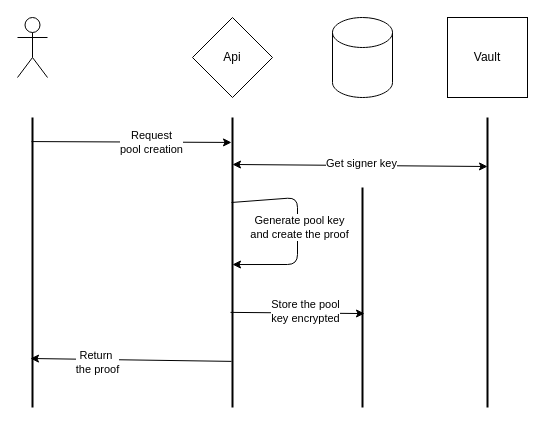
Image size: 545x426. Some labels were removed from this diagram. Here are the shapes that lost their labels. From the top down, the centre of each, then its label:
point 32,47: User
point 362,57: Database
